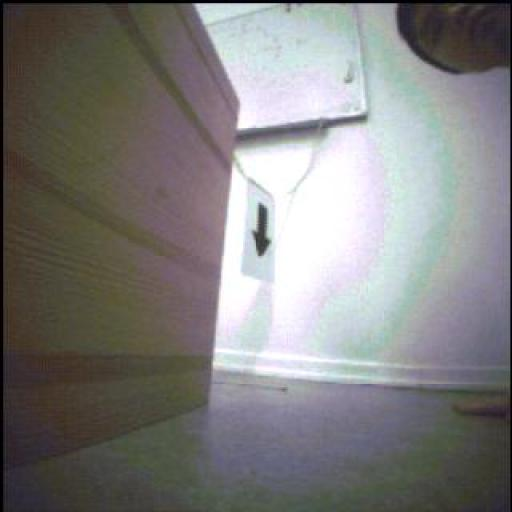Arrow: (254, 204, 271, 257)
